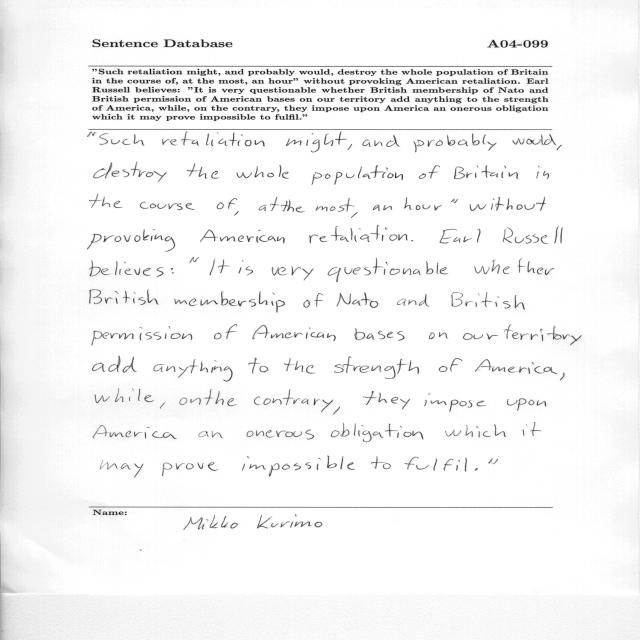word: (328, 258, 449, 282), (242, 456, 355, 477), (174, 292, 285, 313), (88, 229, 176, 252), (334, 356, 419, 379), (92, 326, 192, 345), (311, 165, 403, 185), (154, 359, 233, 382), (254, 389, 333, 412), (310, 225, 408, 243), (331, 423, 423, 442), (413, 134, 497, 153), (504, 325, 582, 345), (162, 132, 265, 147), (94, 162, 167, 182), (474, 258, 554, 275), (252, 325, 336, 341), (451, 292, 525, 310), (286, 132, 347, 153), (90, 260, 164, 277), (475, 359, 557, 374), (200, 230, 285, 244), (424, 393, 486, 412), (93, 425, 177, 439), (503, 226, 563, 244), (470, 197, 546, 211), (90, 290, 159, 305), (454, 165, 518, 179), (404, 457, 467, 471), (315, 198, 358, 218), (363, 391, 410, 409), (95, 389, 154, 403), (445, 425, 507, 438), (162, 462, 218, 476), (93, 356, 137, 373), (100, 461, 144, 478), (236, 165, 289, 178), (337, 292, 379, 308), (247, 430, 314, 440), (354, 328, 405, 341), (272, 266, 314, 281), (99, 133, 145, 146), (440, 229, 481, 243), (204, 389, 237, 406), (507, 398, 547, 411), (187, 163, 219, 179), (284, 358, 316, 374), (512, 134, 557, 145), (404, 198, 442, 211), (90, 194, 123, 208), (362, 135, 400, 147), (140, 202, 195, 210), (397, 294, 429, 307), (217, 198, 239, 216), (214, 325, 237, 340), (210, 259, 229, 276), (439, 358, 462, 372), (249, 358, 269, 374), (419, 165, 440, 179), (281, 200, 305, 212), (304, 293, 324, 307), (523, 422, 542, 436), (371, 456, 391, 469), (463, 333, 498, 340), (263, 197, 280, 211), (239, 261, 253, 276), (179, 397, 201, 405), (199, 431, 224, 438), (536, 166, 549, 179), (429, 332, 448, 339), (190, 258, 200, 264), (488, 459, 498, 465), (333, 407, 340, 415), (259, 205, 267, 211), (88, 132, 97, 137), (383, 206, 392, 211), (373, 205, 380, 211), (560, 373, 565, 381), (160, 402, 165, 408), (451, 199, 458, 203), (557, 145, 562, 150), (348, 144, 352, 150), (171, 268, 174, 274), (475, 468, 478, 471), (411, 240, 413, 241)
